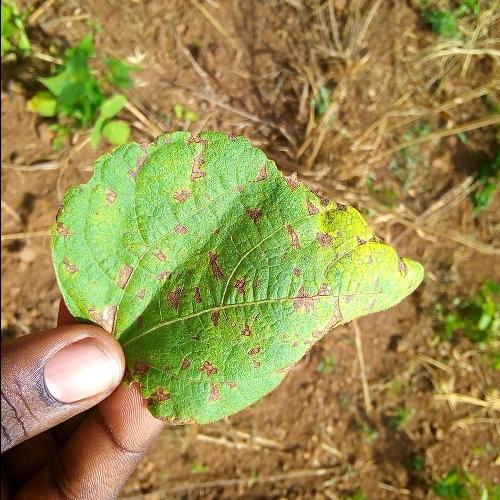hawar: (44, 126, 415, 422)
